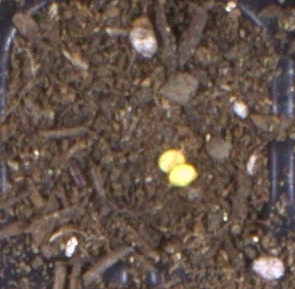chilli seed: (159, 149, 186, 172), (169, 164, 197, 186)
